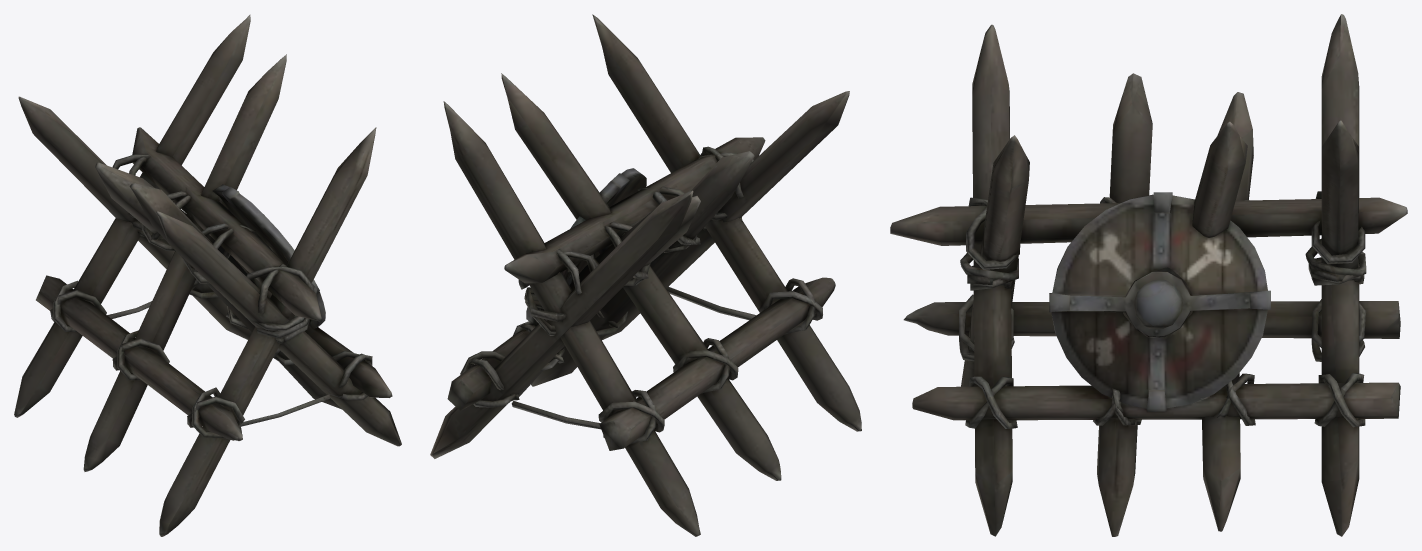
Rendered from barricade.glb.
3 views of the same model, side by side, from view 1: azimuth 30°, elevation 25°; view 2: azimuth 150°, elevation 25°; view 3: azimuth 270°, elevation 25° (orthographic). The views are drawn at different scales.
Visible parts, largest first — view 1: model; view 2: model; view 3: model.
Boxes of the visible parts, box(x1,y1,x2,y2) form: model: box(14, 14, 401, 536); model: box(430, 14, 861, 536); model: box(890, 14, 1407, 536).
Size of the model in its own units: 0.7423 by 1 by 1.06.
1 material, 1 textured.
